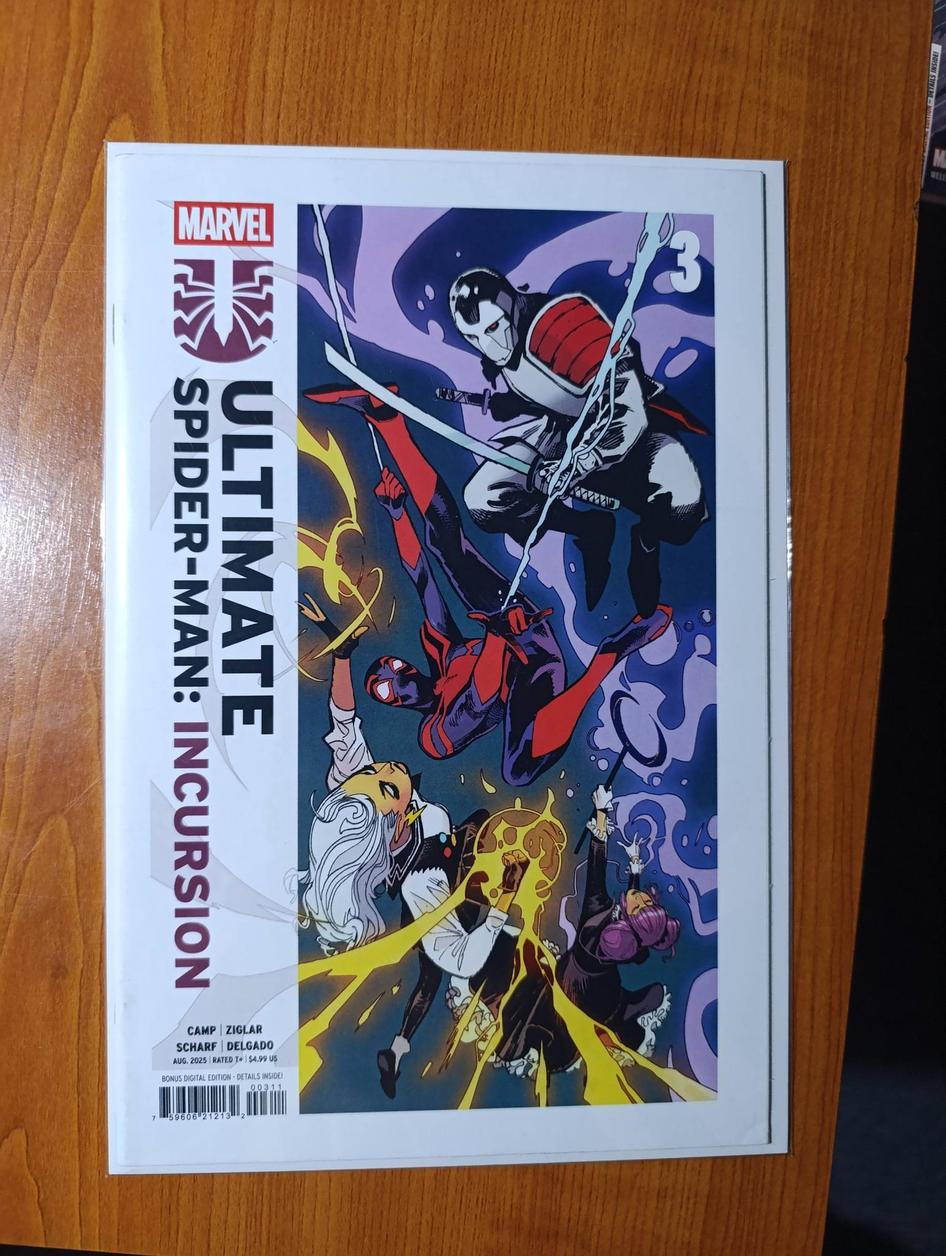comic: (106, 144, 788, 1171)
